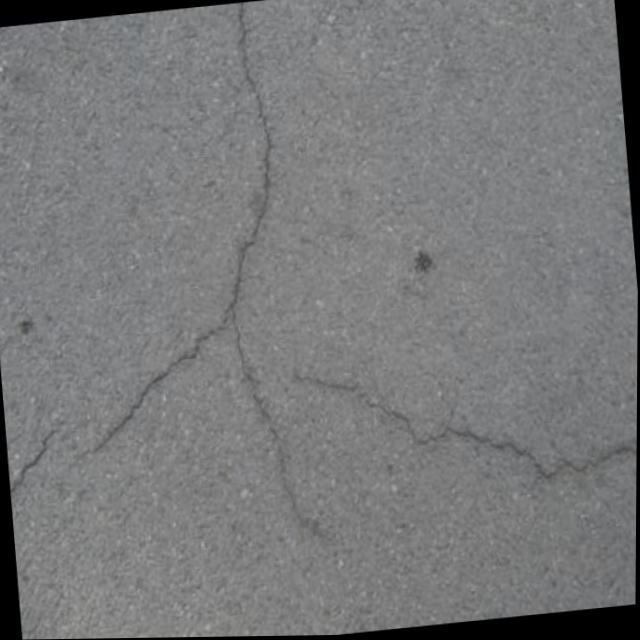Crack: (300, 320, 638, 541), (196, 4, 315, 552), (0, 300, 241, 510)
